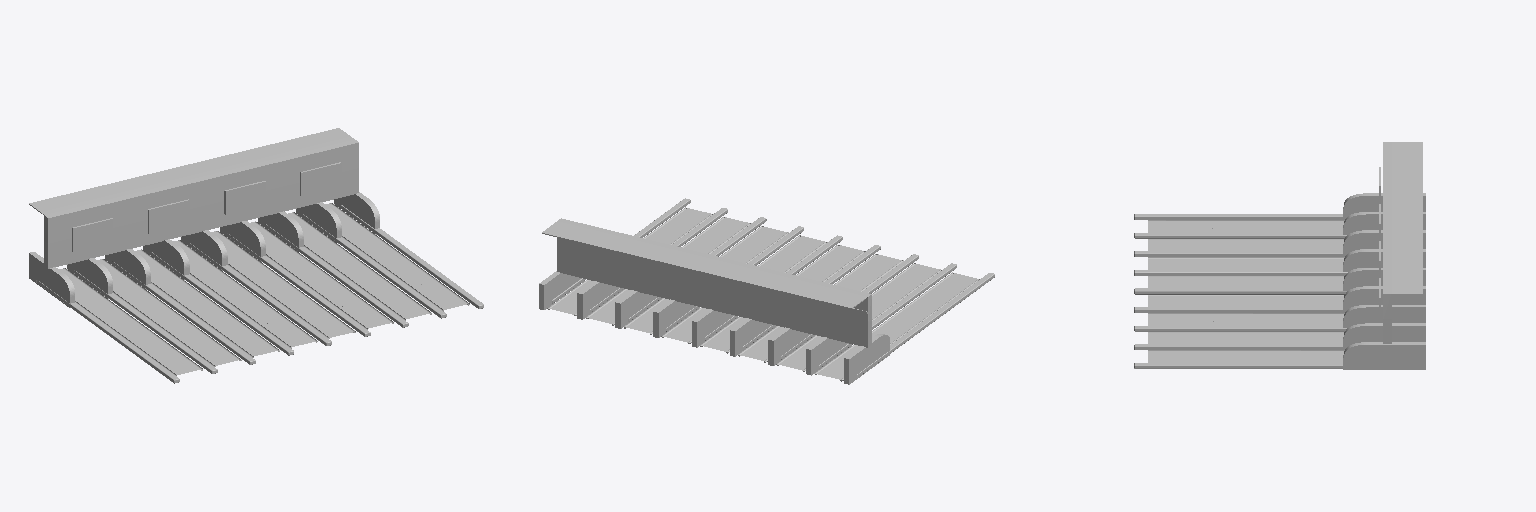
Rendered from alley 2.obj.
3 views of the same model, side by side, from view 1: azimuth 30°, elevation 25°; view 2: azimuth 150°, elevation 25°; view 3: azimuth 270°, elevation 25° (orthographic).
Visible parts, largest first — view 1: banner, alley_floor006, alley_floor004, alley_floor007, alley_floor005, alley_floor001, alley_floor, alley_floor002, alley_floor003, sidewall001, ChamferBox008, ChamferBox007 (+19 smaller); view 2: banner, alley_floor, alley_floor007, alley_floor004, alley_floor006, alley_floor005, alley_floor002, alley_floor001, alley_floor003, sidewall001, ChamferBox009, sidewall006 (+15 smaller); view 3: banner, alley_floor, alley_floor001, alley_floor003, sidewall009, alley_floor007, alley_floor005, alley_floor002, alley_floor006, alley_floor004, ChamferBox004, sidewall008 (+15 smaller).
Boxes of the visible parts, x1,y1,x2,y2 form: banner: [29, 128, 358, 268]; alley_floor006: [135, 250, 276, 355]; alley_floor004: [211, 231, 352, 337]; alley_floor007: [97, 259, 237, 365]; alley_floor005: [173, 241, 315, 346]; alley_floor001: [326, 203, 466, 309]; alley_floor: [59, 269, 200, 374]; alley_floor002: [288, 213, 429, 318]; alley_floor003: [250, 222, 390, 328]; sidewall001: [29, 252, 74, 307]; ChamferBox008: [341, 205, 483, 308]; ChamferBox007: [74, 270, 217, 373]; banner: [542, 218, 871, 347]; alley_floor: [817, 273, 977, 379]; alley_floor007: [779, 264, 939, 370]; alley_floor004: [664, 236, 824, 342]; alley_floor006: [740, 254, 901, 360]; alley_floor005: [703, 245, 862, 351]; alley_floor002: [589, 217, 748, 323]; alley_floor001: [550, 208, 710, 314]; alley_floor003: [626, 227, 786, 332]; sidewall001: [844, 334, 889, 384]; ChamferBox009: [857, 273, 994, 377]; sidewall006: [653, 299, 699, 337]; banner: [1383, 142, 1422, 343]; alley_floor: [1148, 221, 1343, 232]; alley_floor001: [1148, 351, 1343, 362]; alley_floor003: [1148, 314, 1343, 325]; sidewall009: [1343, 342, 1425, 369]; alley_floor007: [1148, 240, 1343, 250]; alley_floor005: [1148, 277, 1343, 287]; alley_floor002: [1148, 333, 1343, 343]; alley_floor006: [1148, 259, 1343, 269]; alley_floor004: [1148, 296, 1343, 306]; ChamferBox004: [1134, 288, 1346, 294]; sidewall008: [1343, 323, 1425, 346].
Bounding box in the file's own units: 2612 × 608 × 2109.